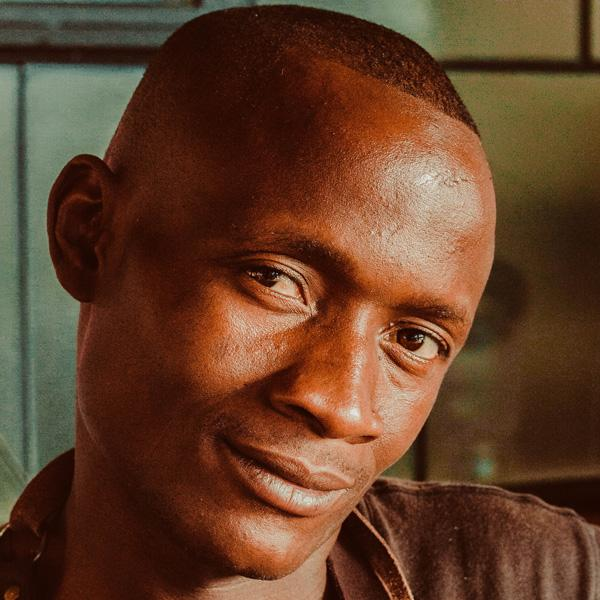Eyes: (225, 246, 312, 315), (375, 311, 450, 375)
